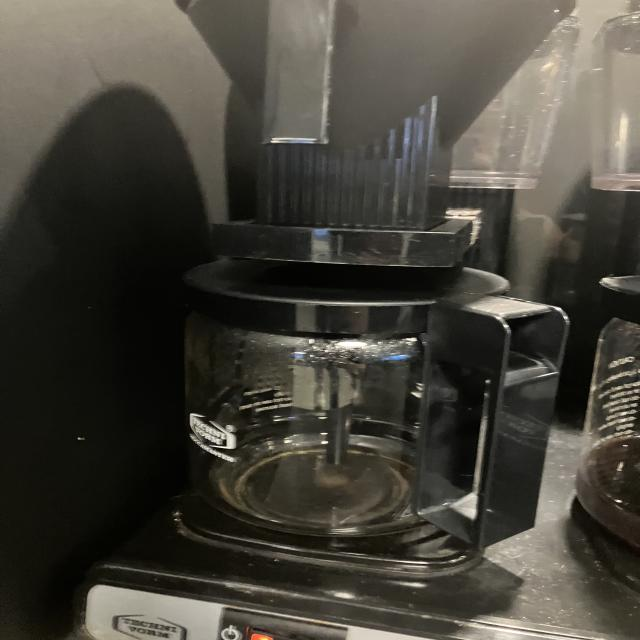nocoffee: (159, 268, 535, 556)
